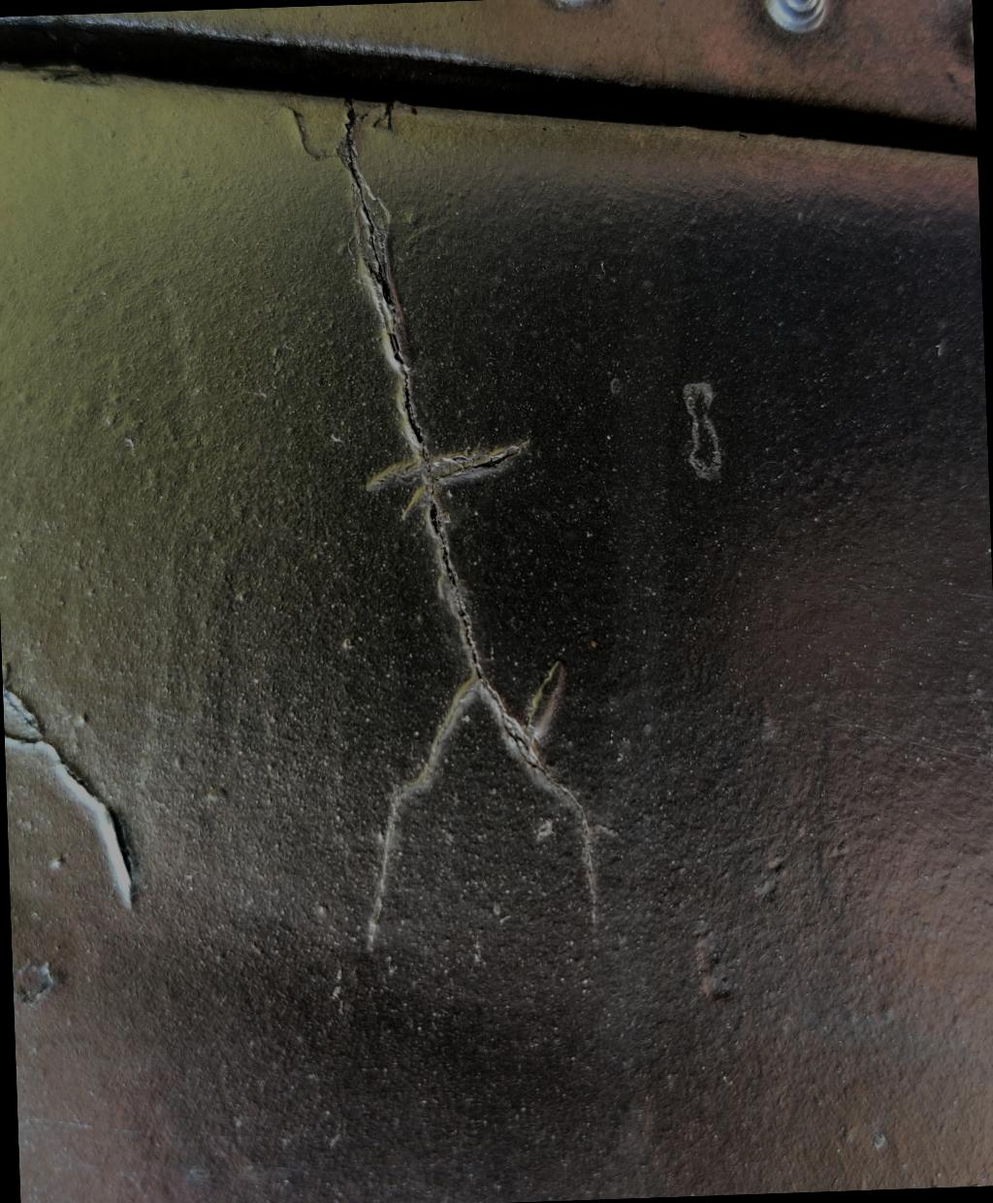crack: (304, 79, 663, 1002)
